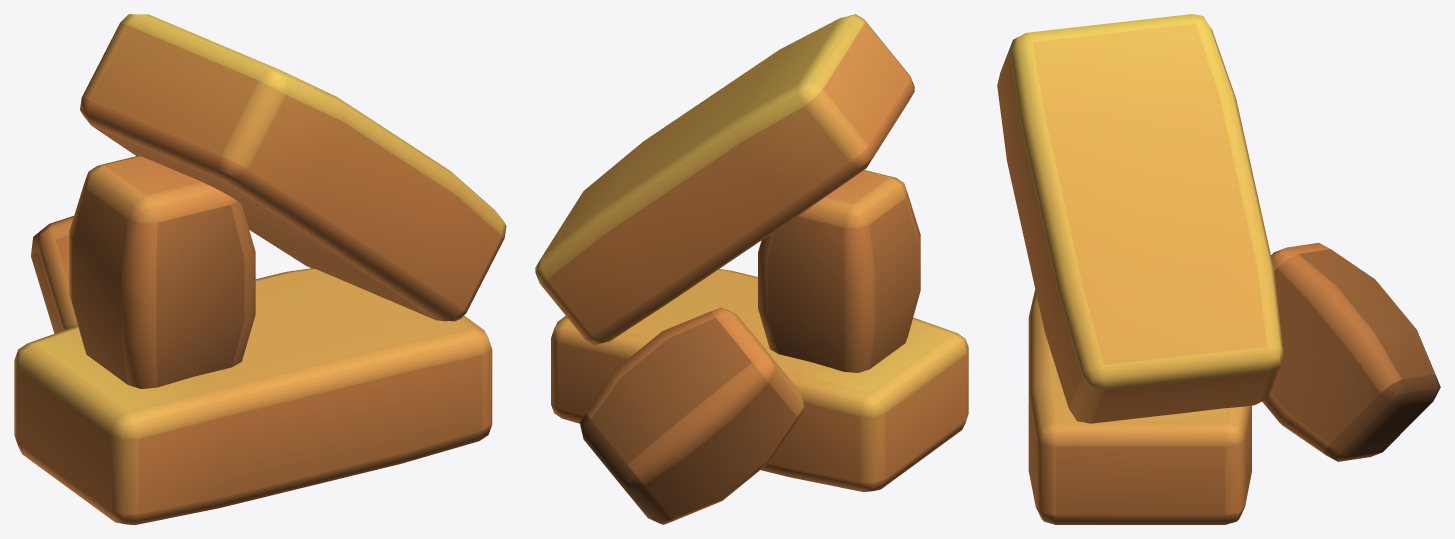
File: rail4_stone.fbx
3 views of the same model, side by side, from view 1: azimuth 30°, elevation 25°; view 2: azimuth 150°, elevation 25°; view 3: azimuth 270°, elevation 25° (orthographic). The views are drawn at different scales.
Parts seen in each view (by area): view 1: rail4_stone; view 2: rail4_stone; view 3: rail4_stone.
Part boxes in pixels (left/top/right/bottom): rail4_stone: left=14, top=14, right=506, bottom=524; rail4_stone: left=535, top=14, right=968, bottom=524; rail4_stone: left=997, top=14, right=1440, bottom=524.
Bounding box in the file's own units: 116 × 119 × 117.
